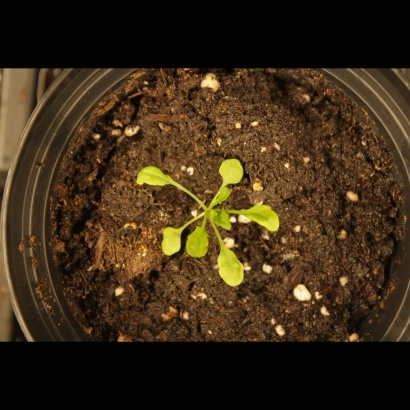leaf: (240, 196, 286, 236), (131, 159, 179, 196), (215, 244, 250, 290), (215, 150, 252, 189), (184, 224, 214, 263), (157, 221, 186, 259), (207, 206, 236, 235)
